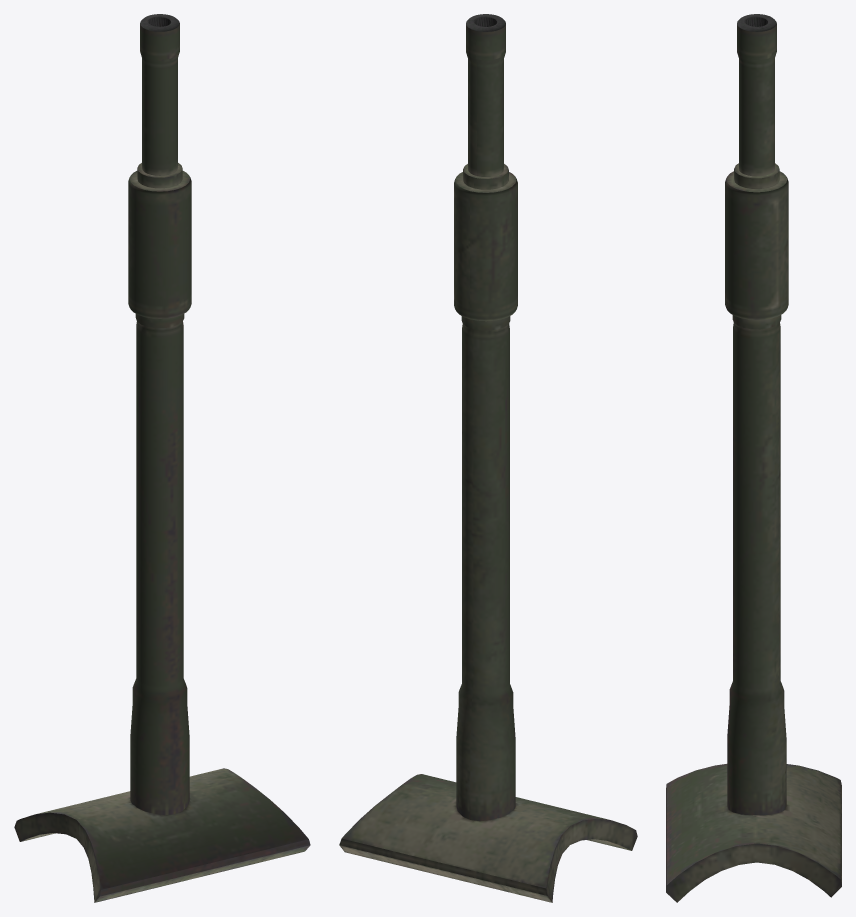
Rendered from Gun_02.glb.
The picture shows the model from 3 angles, left to right: view 1: azimuth 30°, elevation 25°; view 2: azimuth 150°, elevation 25°; view 3: azimuth 270°, elevation 25°; orthographic projection.
Visible parts, largest first — view 1: set_0_group_0; view 2: set_0_group_0; view 3: set_0_group_0.
Part boxes in pixels (x1,y1,x2,y2): set_0_group_0: (14, 14, 310, 902); set_0_group_0: (339, 14, 637, 902); set_0_group_0: (666, 14, 841, 902).
Bounding box in the file's own units: 0.8136 × 3.05 × 0.5863.
1 material, 1 textured.
